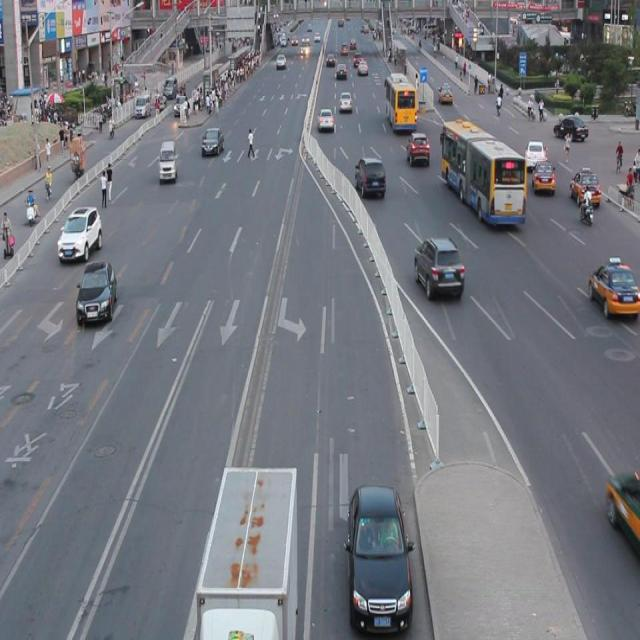bus: (197, 462, 298, 640)
car: (346, 481, 412, 631), (414, 236, 463, 300), (587, 258, 640, 316), (57, 204, 103, 262), (76, 260, 117, 324), (354, 154, 385, 198), (570, 167, 600, 205)
van: (442, 120, 526, 226)
